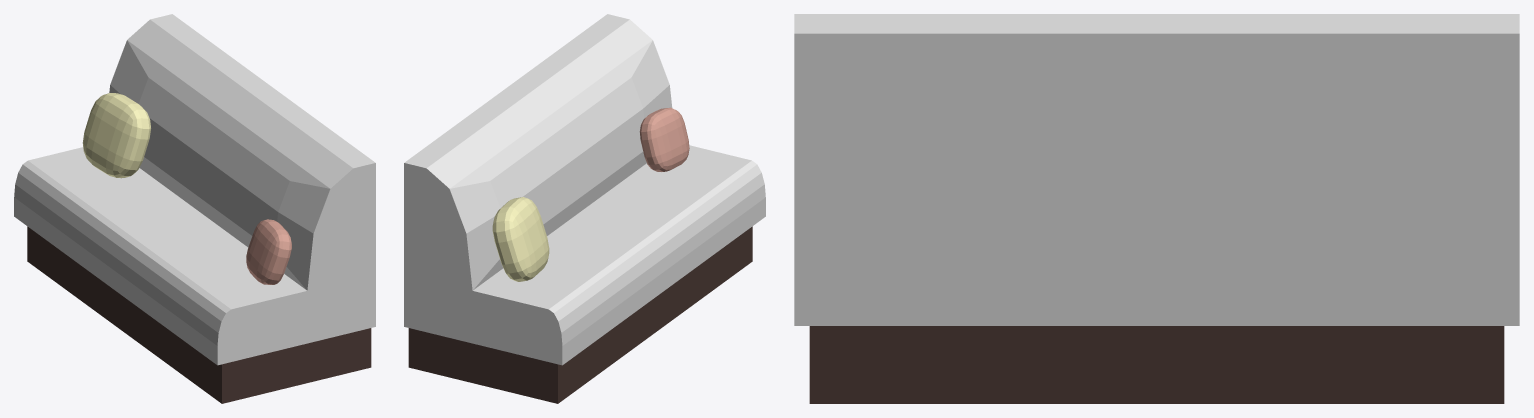
The model's file is BoothOnePillowSmall.fbx.
3 renders of one model, left to right at view 1: azimuth 30°, elevation 25°; view 2: azimuth 150°, elevation 25°; view 3: azimuth 270°, elevation 25°, orthographic. The views are drawn at different scales.
Parts seen in each view (by area): view 1: Cube, Plane, Cube.001, Cube.002; view 2: Cube, Plane, Cube.001, Cube.002; view 3: Cube, Plane.
Boxes of the visible parts, x1,y1,x2,y2 form: Cube: (14,14,375,365); Plane: (27,226,371,403); Cube.001: (82,93,150,178); Cube.002: (246,219,291,284); Cube: (404,14,765,365); Plane: (408,226,752,403); Cube.001: (492,197,549,281); Cube.002: (639,107,689,171); Cube: (794,14,1519,325); Plane: (809,326,1504,403).
Bounding box in the file's own units: 532 × 668 × 1184.
